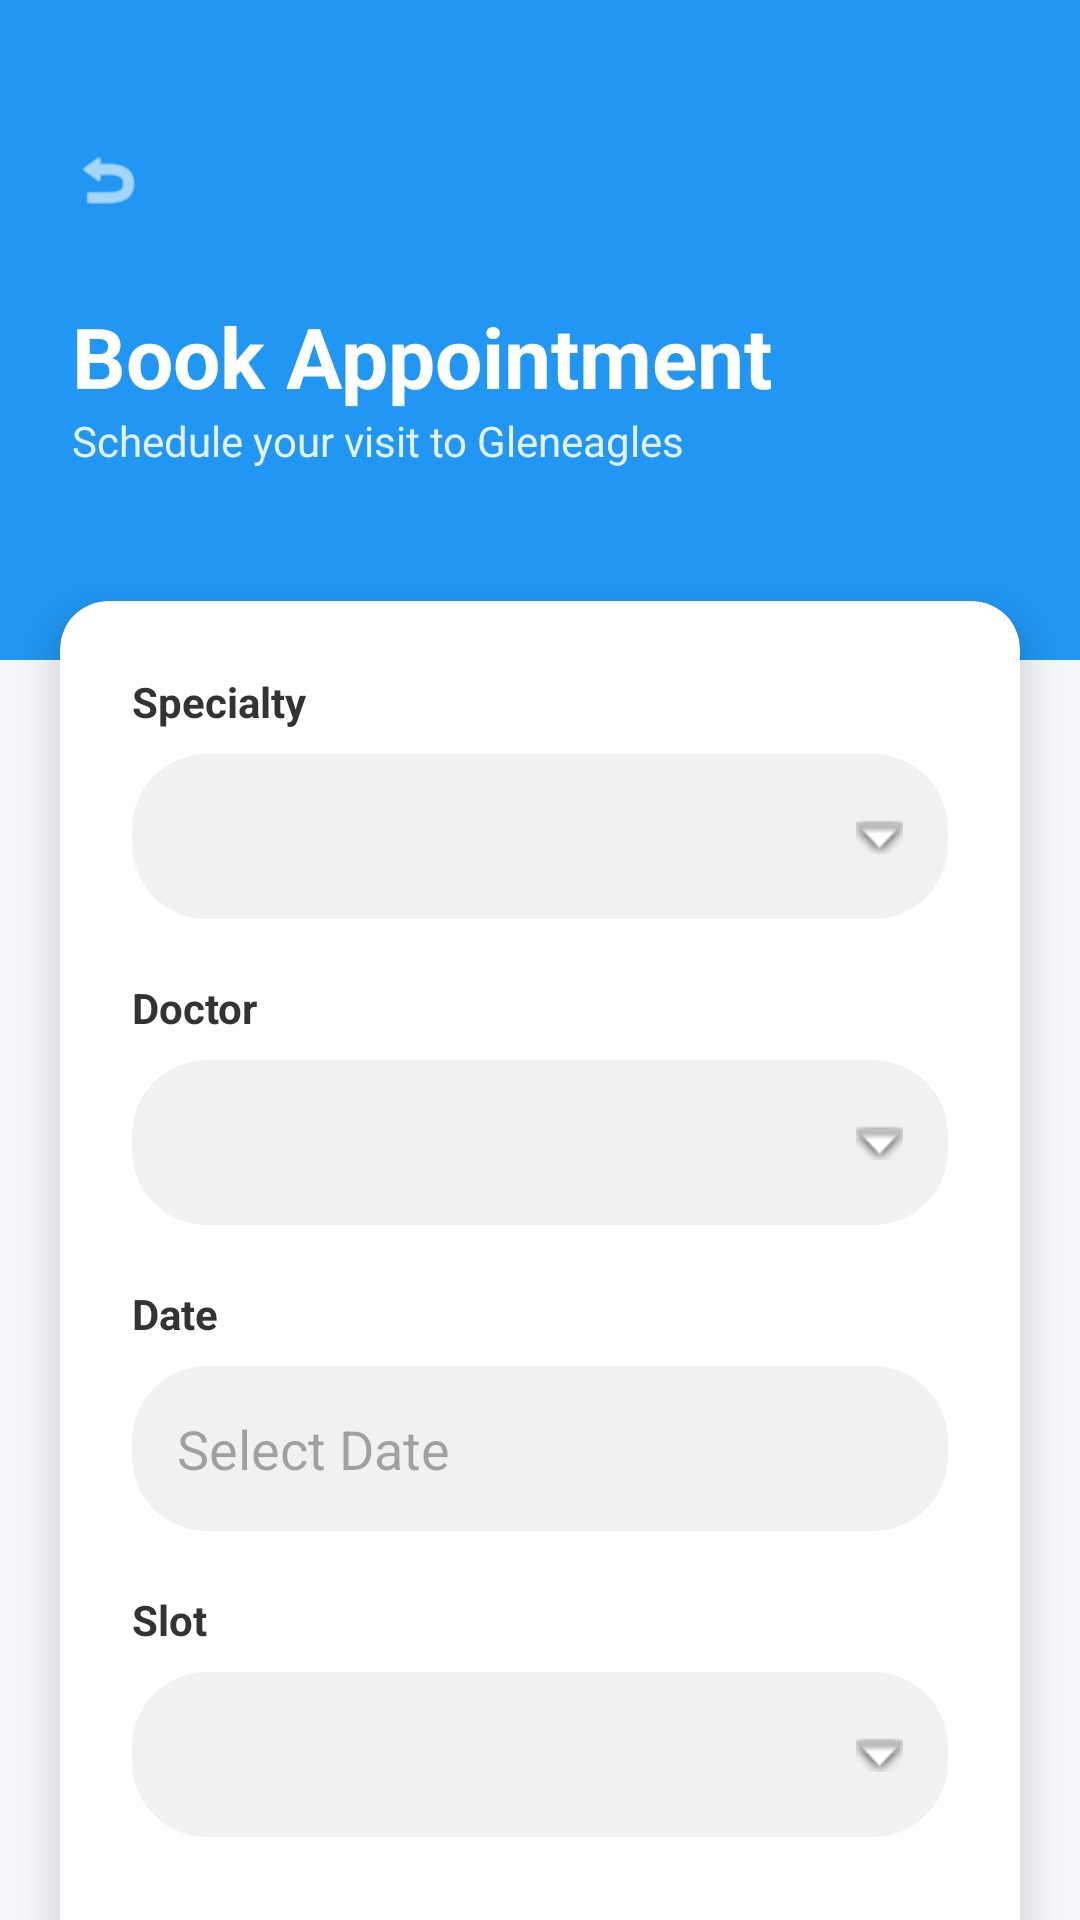

Icon bounding boxes for this 1080x1920 phone screenshot, format box=[x1, y1, x2, y2]:
revert: box=[83, 157, 135, 204]
